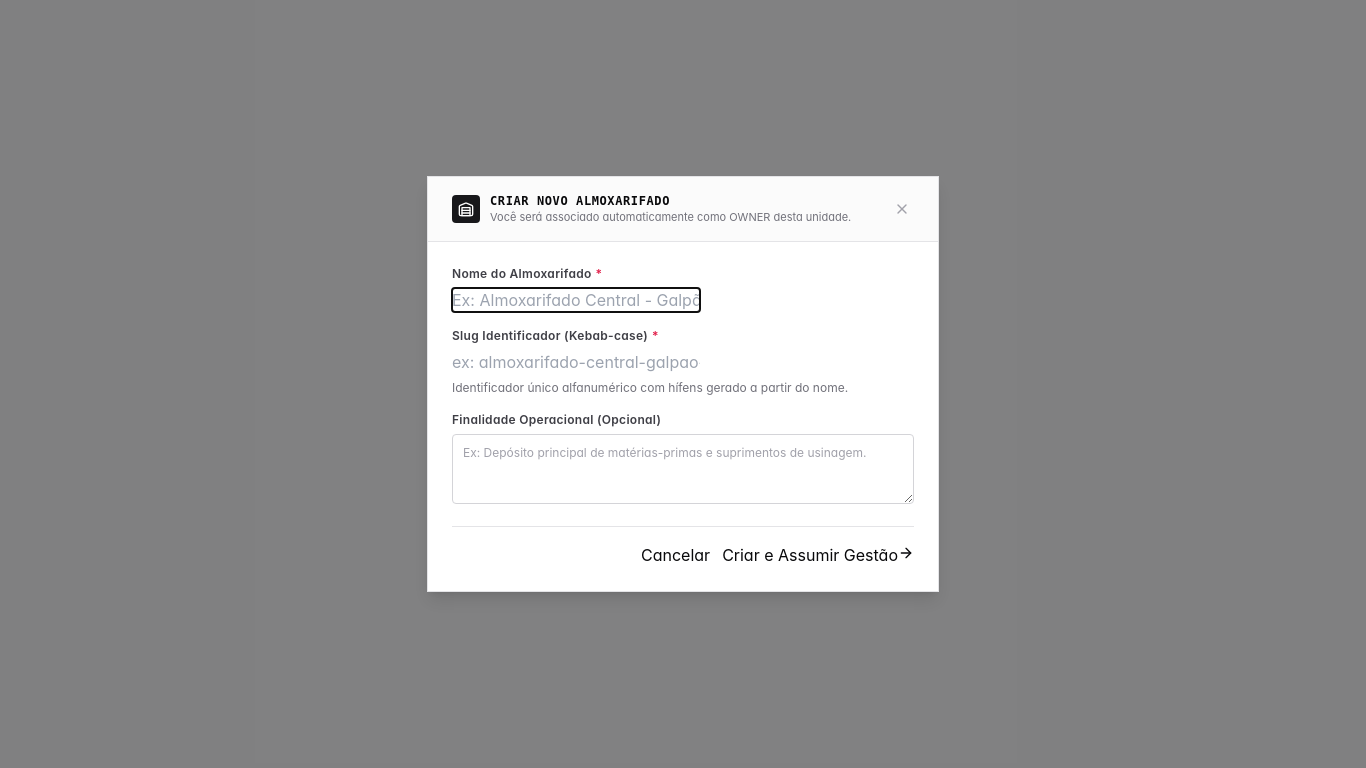
CreateTenantModal (FT-07) › gera automaticamente o slug em kebab-case a partir do nome do almoxarifado
The width and height of the screenshot is (1366, 768).
Type "Almoxarifado Central - Galpão 3!" into the field labelled "Nome do Almoxarifado*".
click(576, 300); type("Almoxarifado Central - Galpão 3!")  # box [452,288,700,312]
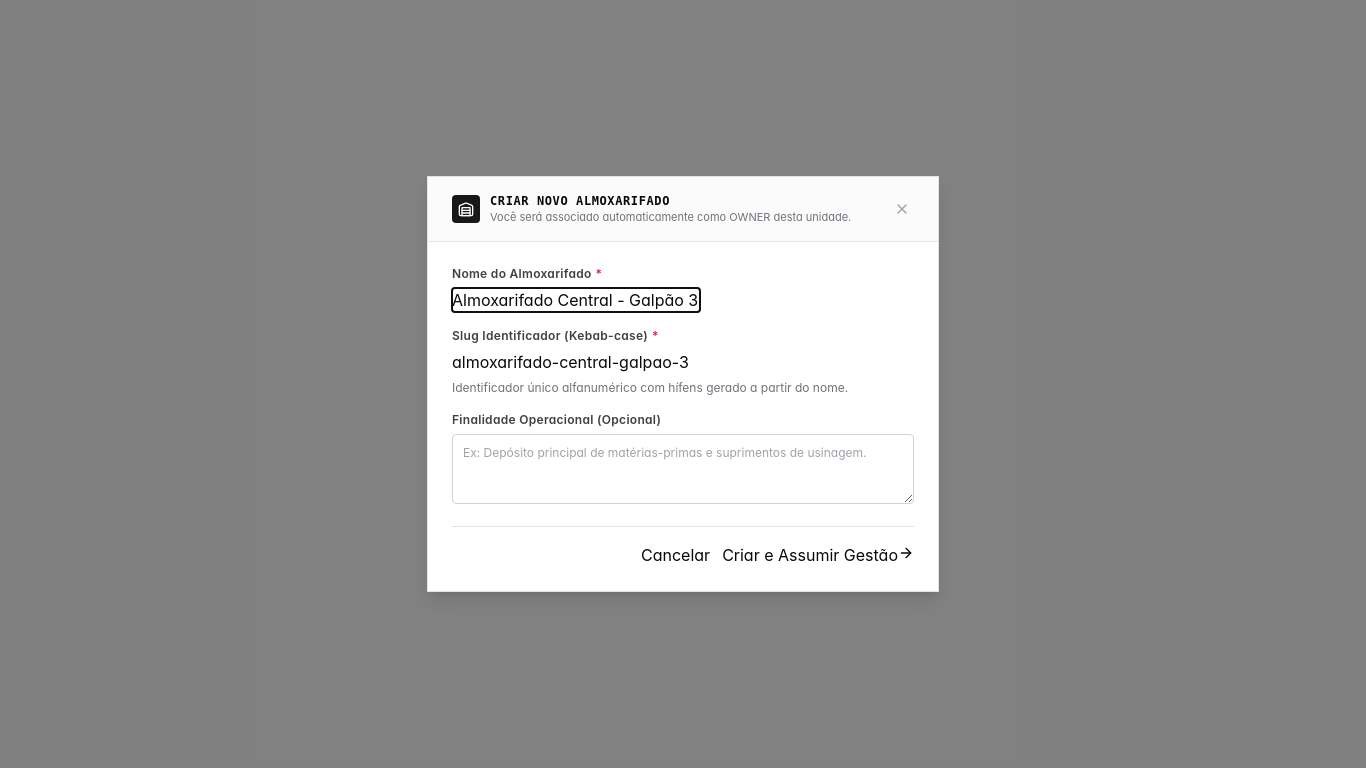
Expected: the field labelled "Slug Identificador (Kebab-case)*" holds "almoxarifado-central-galpao-3", [452,350,700,374]
